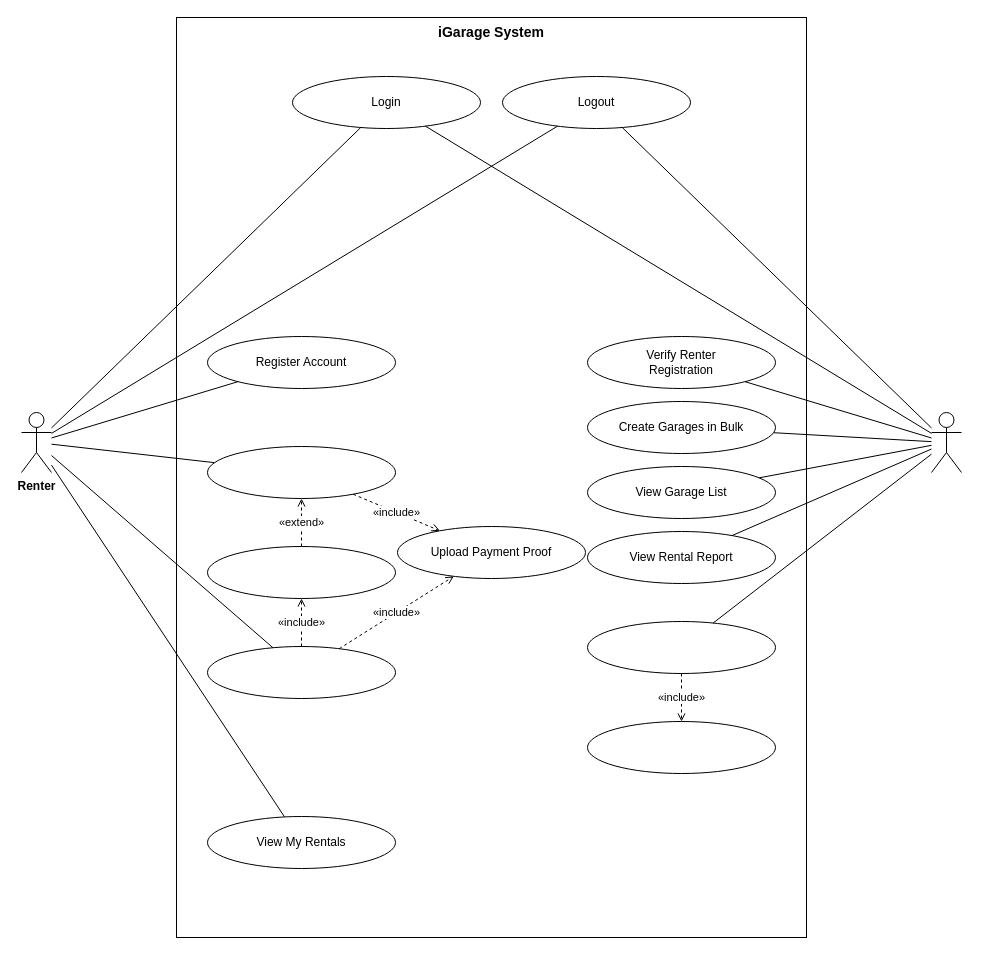
The diagram is 982 pixels wide and 955 high, and some of its shapes have lost their labels. Each missing label, with the centre of its shape:
"Admin" belongs at (x=946, y=442).
"Calculate Charging Fee" belongs at (x=301, y=572).
"Extend Rental" belongs at (x=681, y=647).
"Rent a Garage" belongs at (x=301, y=472).
"Request Charging Session" belongs at (x=301, y=672).
"Upload Extension Payment Proof" belongs at (x=681, y=747).
